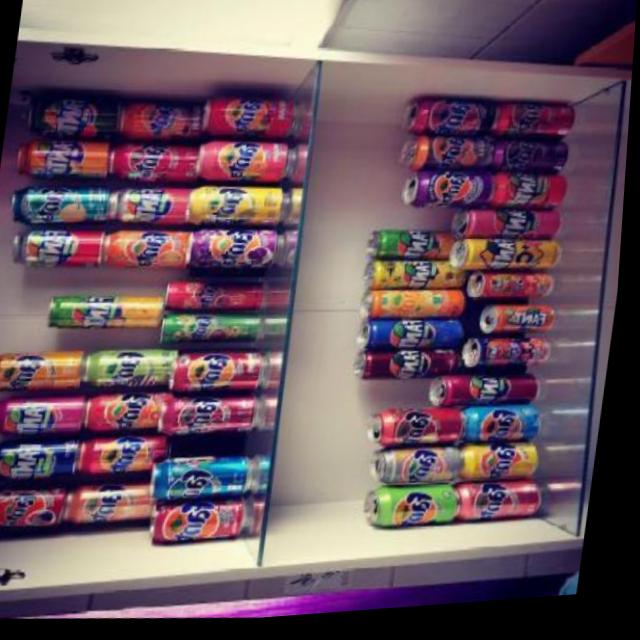Drinks: (154, 453, 268, 511), (154, 497, 258, 553), (23, 90, 127, 146), (14, 132, 117, 188), (50, 290, 167, 339), (9, 179, 117, 232), (366, 486, 468, 541), (161, 393, 266, 446), (202, 92, 301, 147), (370, 407, 472, 460), (197, 137, 297, 191), (432, 374, 546, 421), (190, 182, 291, 235), (10, 223, 111, 276), (175, 348, 272, 402), (190, 227, 287, 278), (0, 390, 93, 443), (0, 346, 92, 399), (452, 210, 568, 252), (450, 241, 566, 283), (402, 100, 501, 149), (0, 434, 88, 489), (375, 448, 473, 497), (402, 171, 498, 220), (399, 135, 495, 183), (462, 483, 552, 534), (359, 321, 470, 362), (0, 478, 77, 537), (111, 138, 200, 189), (360, 292, 470, 333), (87, 345, 179, 394), (72, 477, 155, 530), (162, 311, 268, 352), (167, 278, 272, 319), (119, 100, 207, 148), (107, 228, 194, 276), (111, 186, 196, 232), (491, 139, 573, 186), (464, 341, 558, 382), (88, 390, 168, 438), (492, 176, 573, 223), (497, 104, 579, 150), (467, 409, 549, 455), (82, 433, 162, 480), (467, 447, 548, 493), (364, 260, 452, 301), (368, 229, 455, 270), (468, 273, 559, 312), (355, 352, 442, 391), (480, 308, 561, 347)
